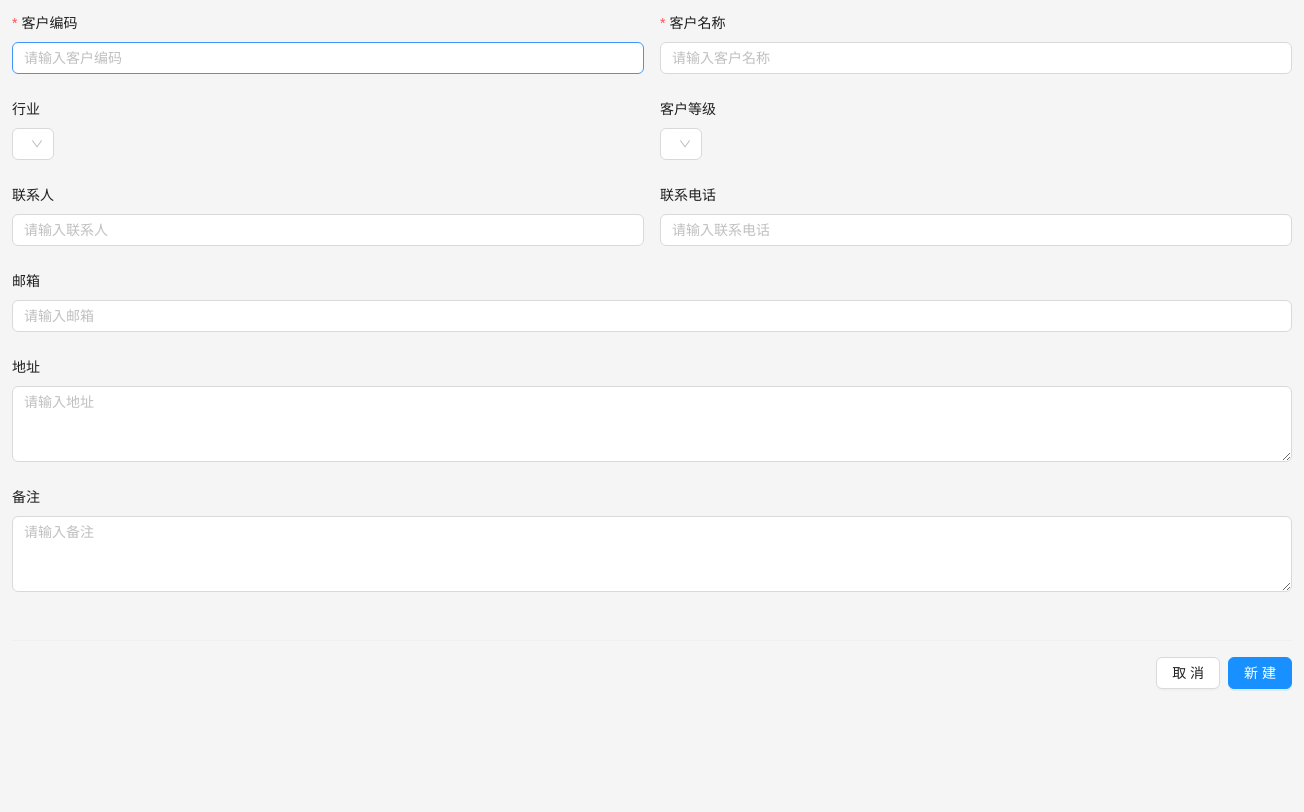
Scenario: CustomerForm › validates required fields on submit
This screenshot has width=1304, height=812.
Click the button with test id "submit-btn" at point(1260, 673), box [1228,657,1292,689]
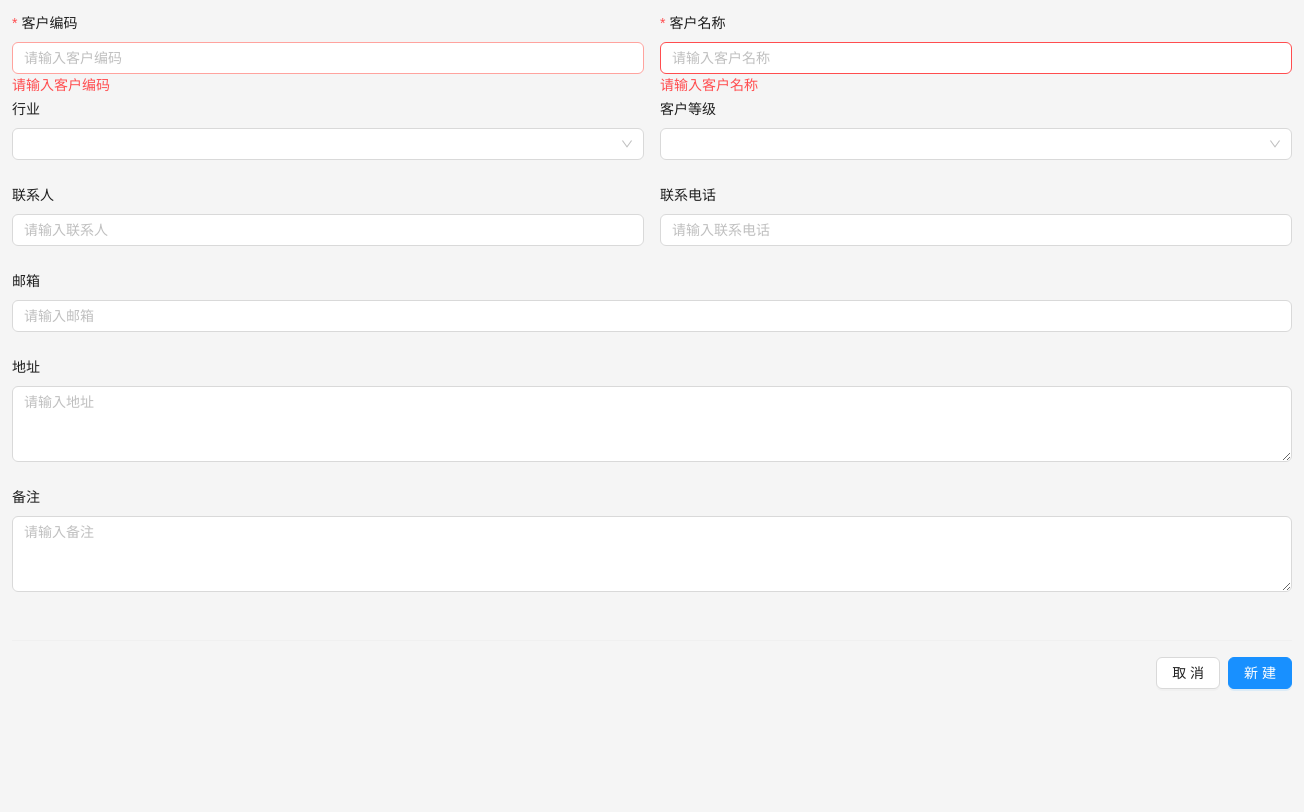
Check: the message "请输入客户编码" is shown, box [12,74,110,96]
